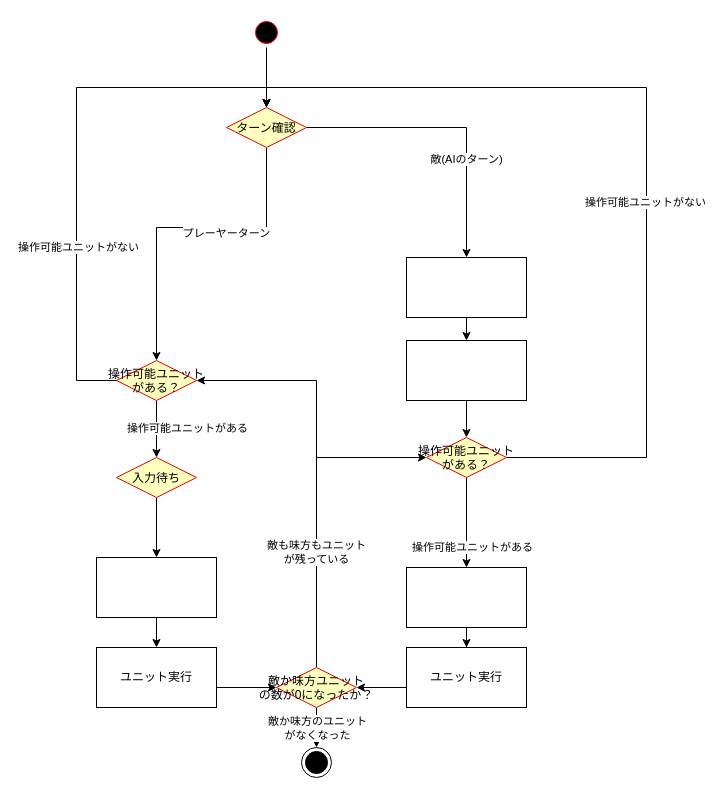
Image size: 722x795. Some labels were removed from this diagram. Each missing label, with the box of its shape:
フィールド情報取得: (406, 256, 526, 318)
ユニットへの 戦略指示: (406, 566, 526, 628)
ユニットへの 戦略指示 (入力の反映): (96, 556, 216, 618)
戦略家AIの戦略選択: (406, 340, 526, 400)
